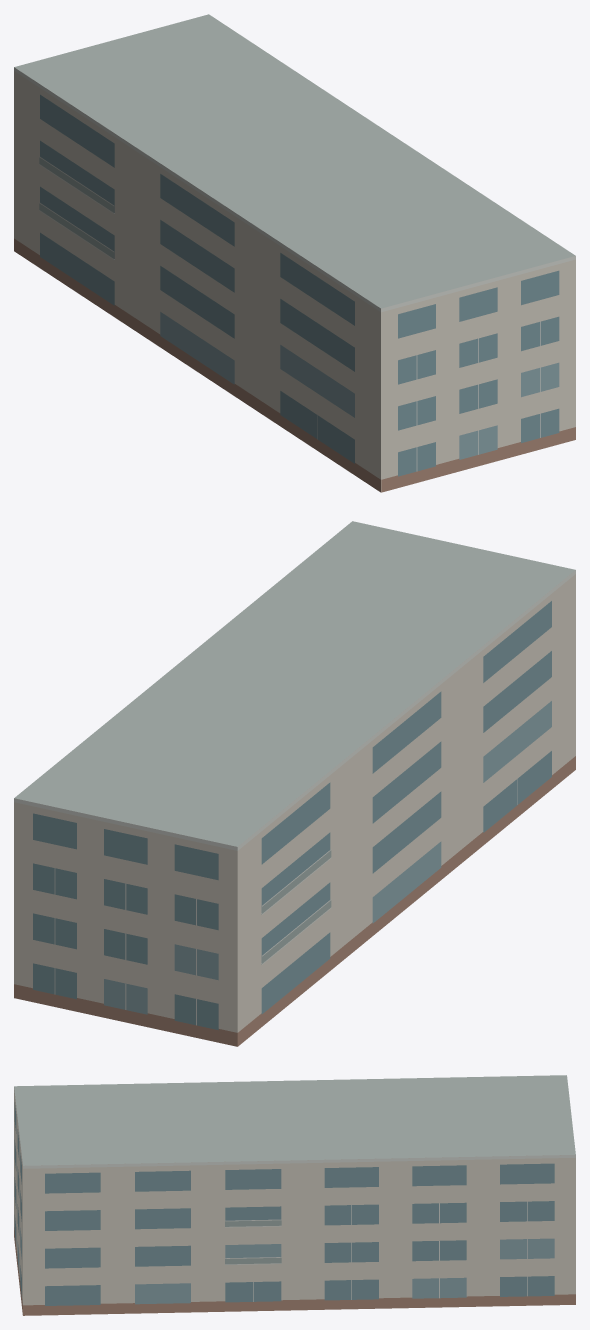
Rendered from residential-84285770-b765-43a9-8a69-65b35a141d0f.glb.
3 views of the same model, one above another, from view 1: azimuth 30°, elevation 25°; view 2: azimuth 150°, elevation 25°; view 3: azimuth 270°, elevation 25° (orthographic). The views are drawn at different scales.
Visible parts, largest first — view 1: residential-84285770-b765-43a9-8a69-65b35a141d0f.tmp; view 2: residential-84285770-b765-43a9-8a69-65b35a141d0f.tmp; view 3: residential-84285770-b765-43a9-8a69-65b35a141d0f.tmp.
Boxes of the visible parts, x1,y1,x2,y2 form: residential-84285770-b765-43a9-8a69-65b35a141d0f.tmp: [14, 14, 575, 492]; residential-84285770-b765-43a9-8a69-65b35a141d0f.tmp: [14, 521, 575, 1046]; residential-84285770-b765-43a9-8a69-65b35a141d0f.tmp: [14, 1075, 575, 1315].
Bounding box in the file's own units: 15.83 × 12.2 × 41.43.
